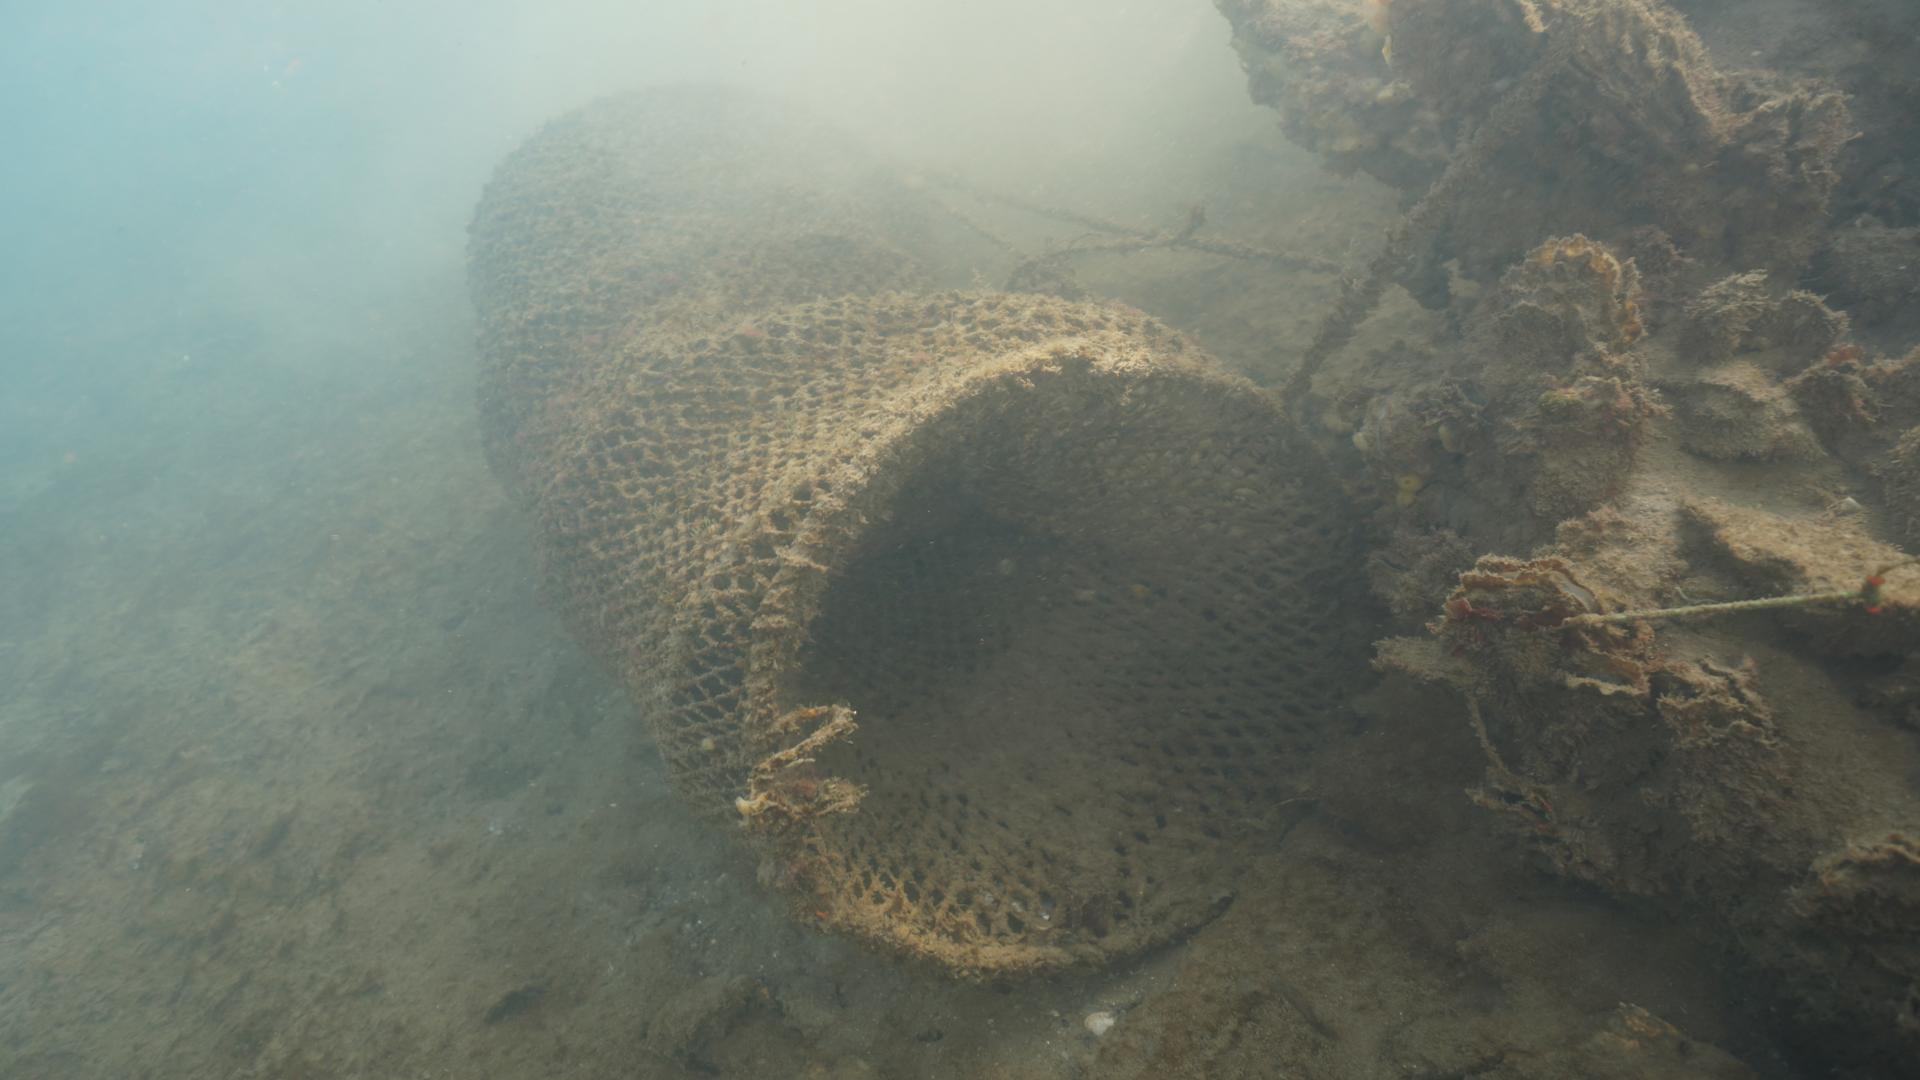spring fish trap: (460, 70, 1390, 990)
